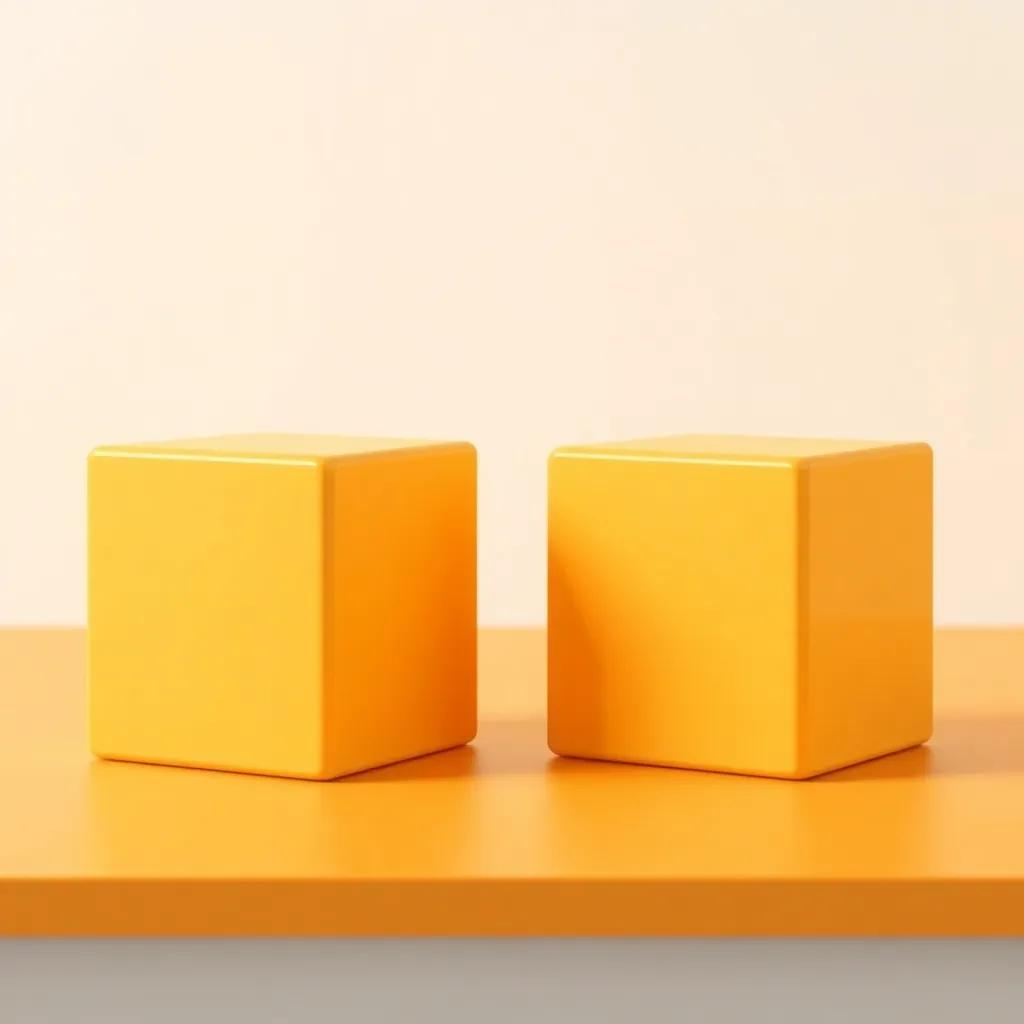cube: (85, 431, 478, 781), (545, 431, 934, 780)
